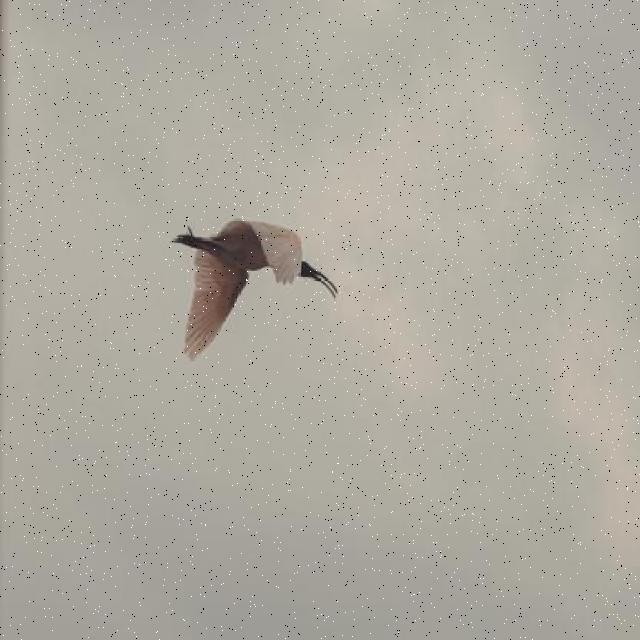bird: (172, 220, 340, 362)
